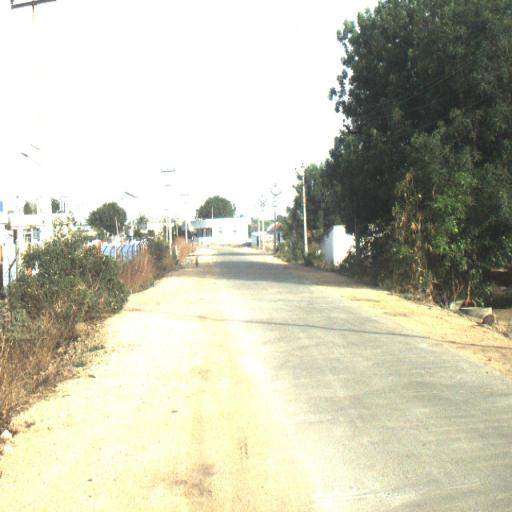street_light_0: (292, 184, 307, 207)
